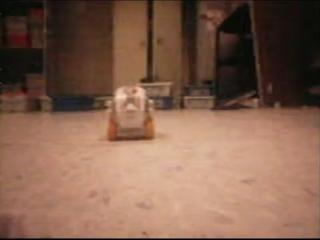cozmo: (105, 84, 155, 140)
